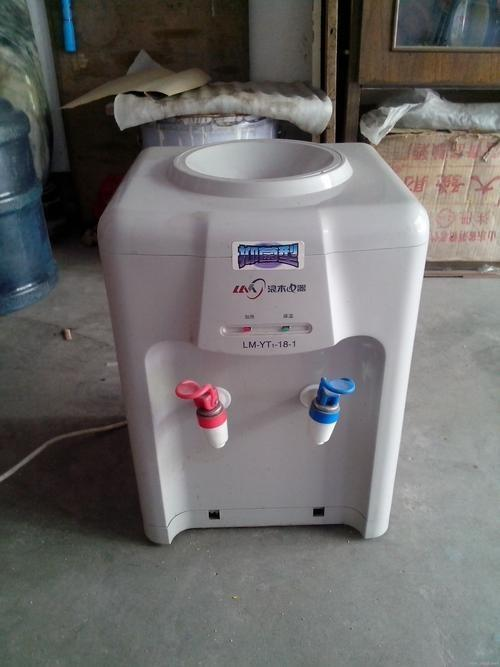Dispenser: (95, 139, 430, 546)
